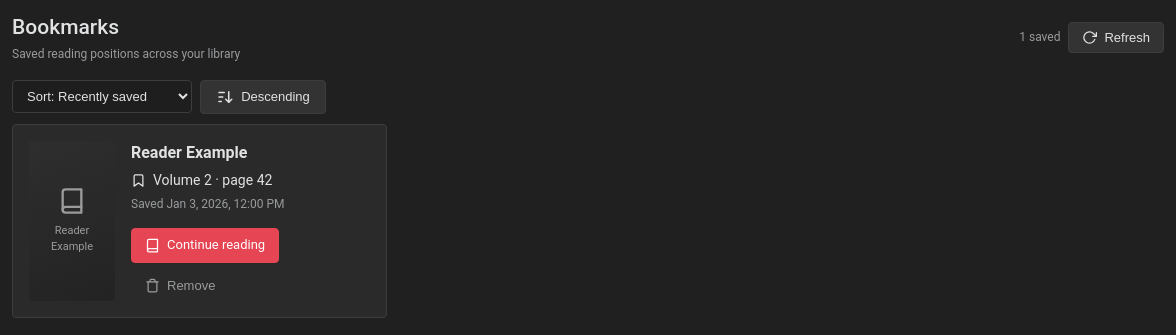
Test: removes a saved position and shows the empty state
The image size is (1176, 335).
Click the button with aria-label "Remove bookmark for Reader Example" at coordinates (180, 285), box x1=131 y1=270 x2=229 y2=300
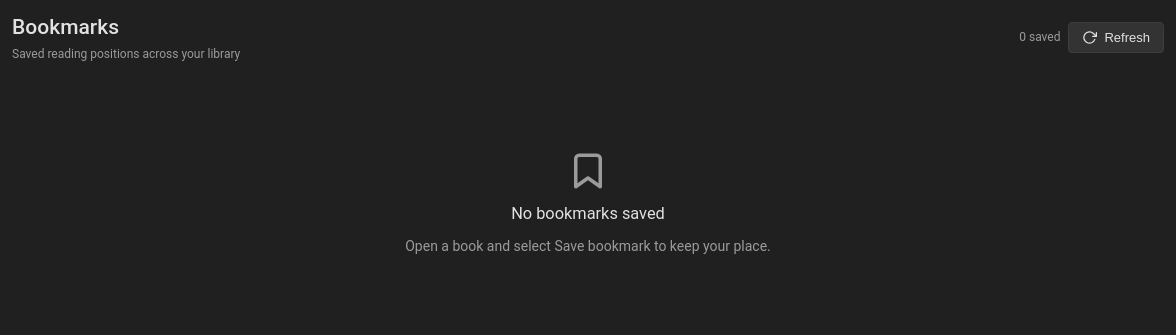
Expected: the heading "No bookmarks saved" is shown, x1=511 y1=202 x2=665 y2=226
